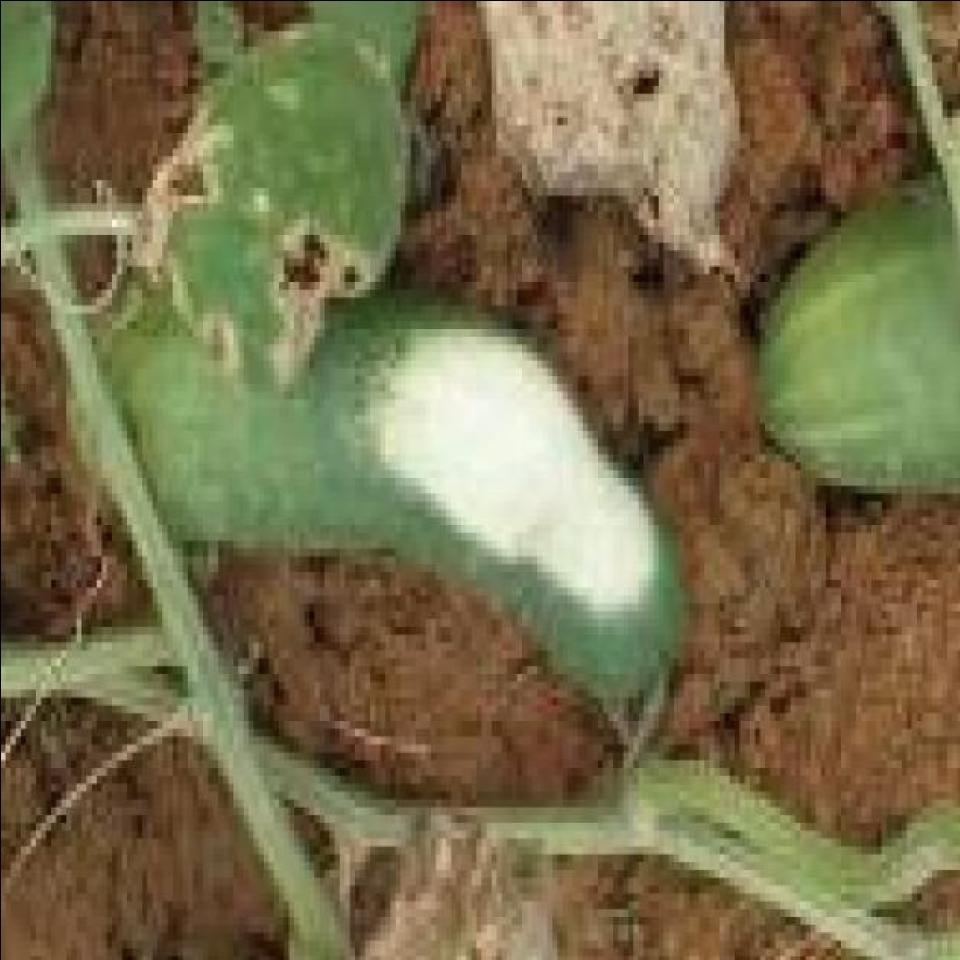Sunscald: (351, 272, 696, 634)
